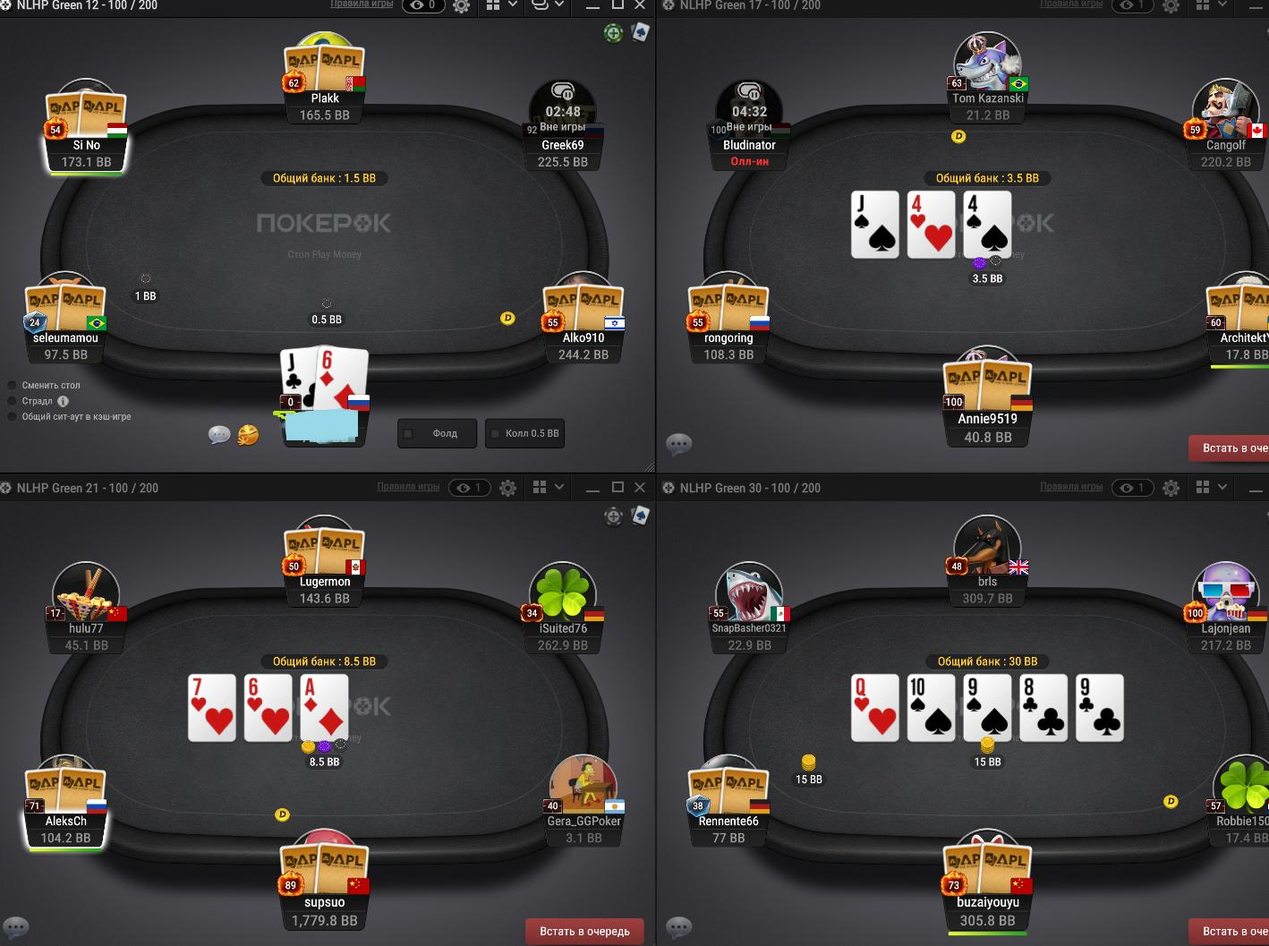10s: (910, 674, 954, 742)
4h: (907, 191, 955, 259)
4s: (965, 191, 1011, 257)
6d: (316, 343, 371, 417)
6h: (245, 675, 293, 741)
7h: (189, 675, 237, 741)
8c: (1022, 675, 1067, 740)
9c: (1077, 674, 1124, 739)
9s: (964, 676, 1011, 740)
Ad: (301, 675, 347, 740)
Jc: (277, 346, 317, 414)
Js: (851, 192, 900, 255)
Qh: (852, 676, 899, 740)
